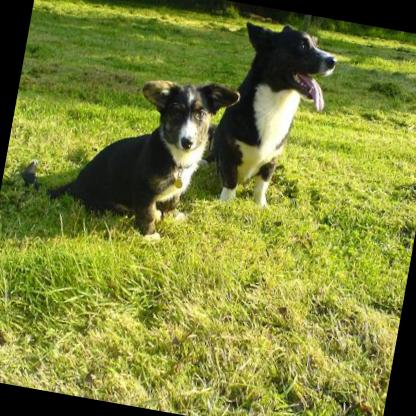Cardigan: (11, 50, 242, 254), (193, 13, 341, 218)
